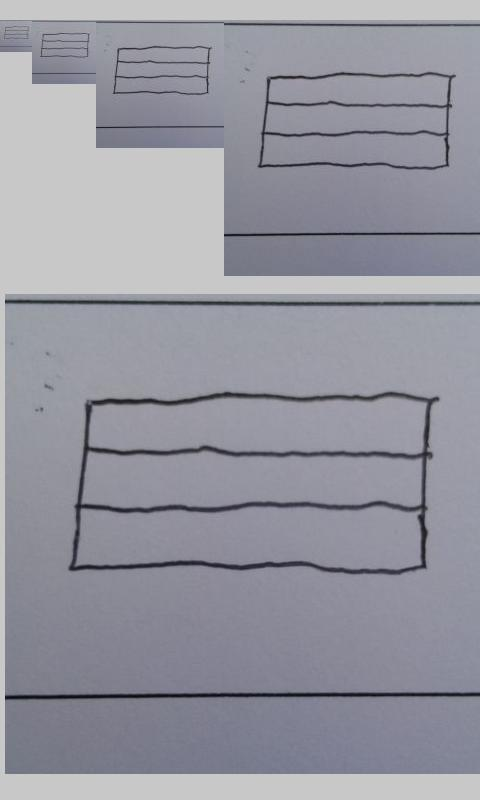list_view: (68, 389, 434, 581), (257, 71, 452, 172), (112, 46, 211, 96), (40, 32, 91, 58), (3, 25, 29, 40)
